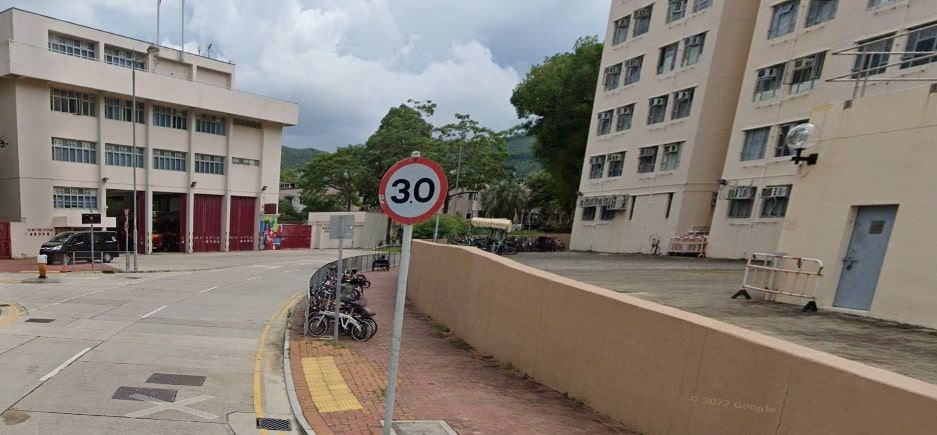Speed Limit: (375, 149, 452, 223)
